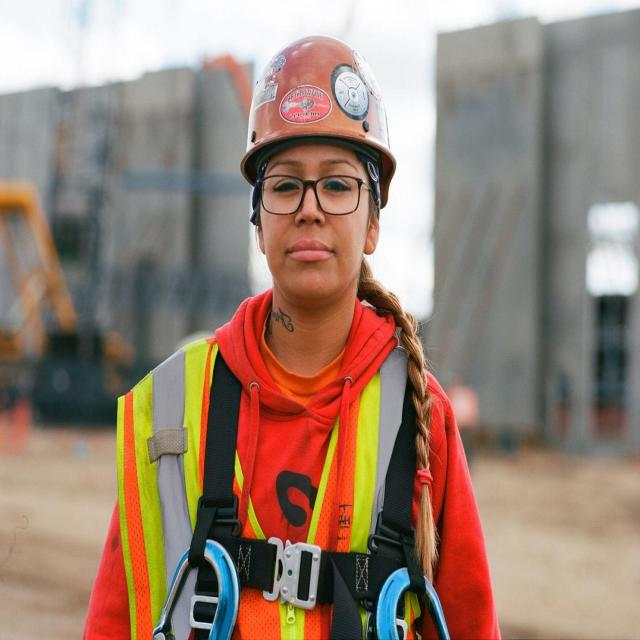Reflective-Jacket: (105, 304, 460, 632)
Safety-Helmet: (233, 30, 402, 186)
